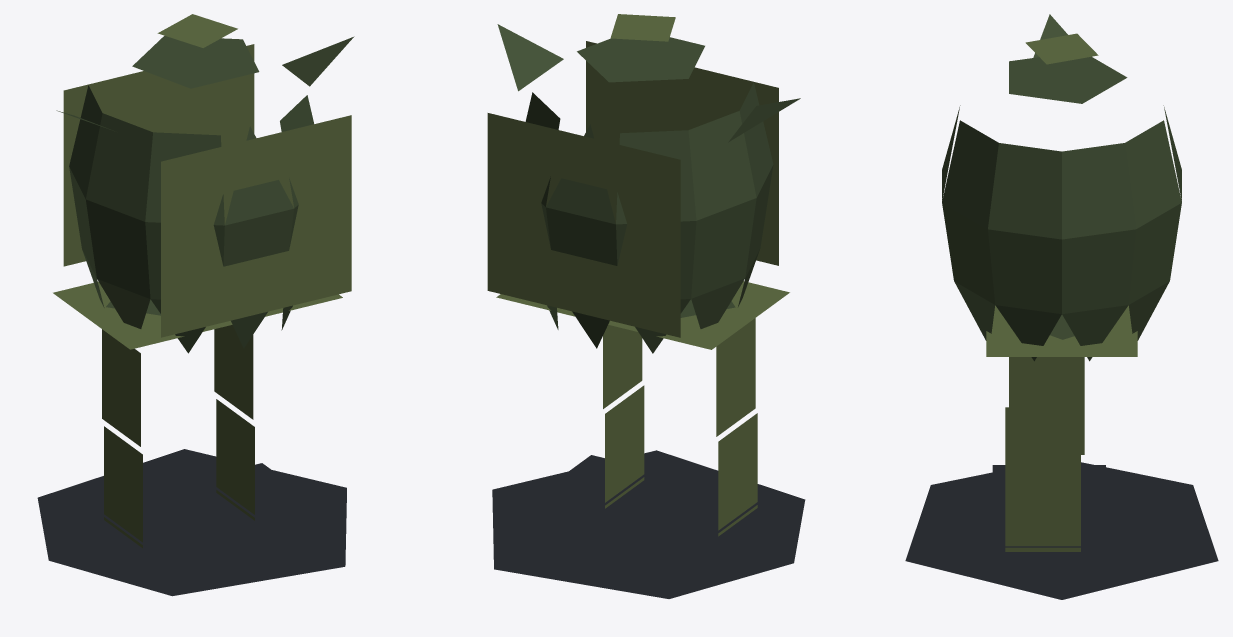
Rendered from battle-armor.lod.glb.
3 views of the same model, side by side, from view 1: azimuth 30°, elevation 25°; view 2: azimuth 150°, elevation 25°; view 3: azimuth 270°, elevation 25° (orthographic). The views are drawn at different scales.
Parts seen in each view (by area): view 1: m; view 2: m; view 3: m.
Boxes of the visible parts, x1=… form: m: x1=37, y1=14, x2=354, y2=596; m: x1=487, y1=14, x2=805, y2=598; m: x1=905, y1=14, x2=1218, y2=599.
Bounding box in the file's own units: 0.3318 × 0.4248 × 0.2398.
